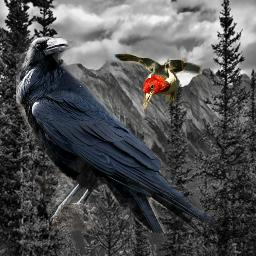Crow: (16, 35, 223, 233)
Woodpecker: (109, 48, 202, 112)
